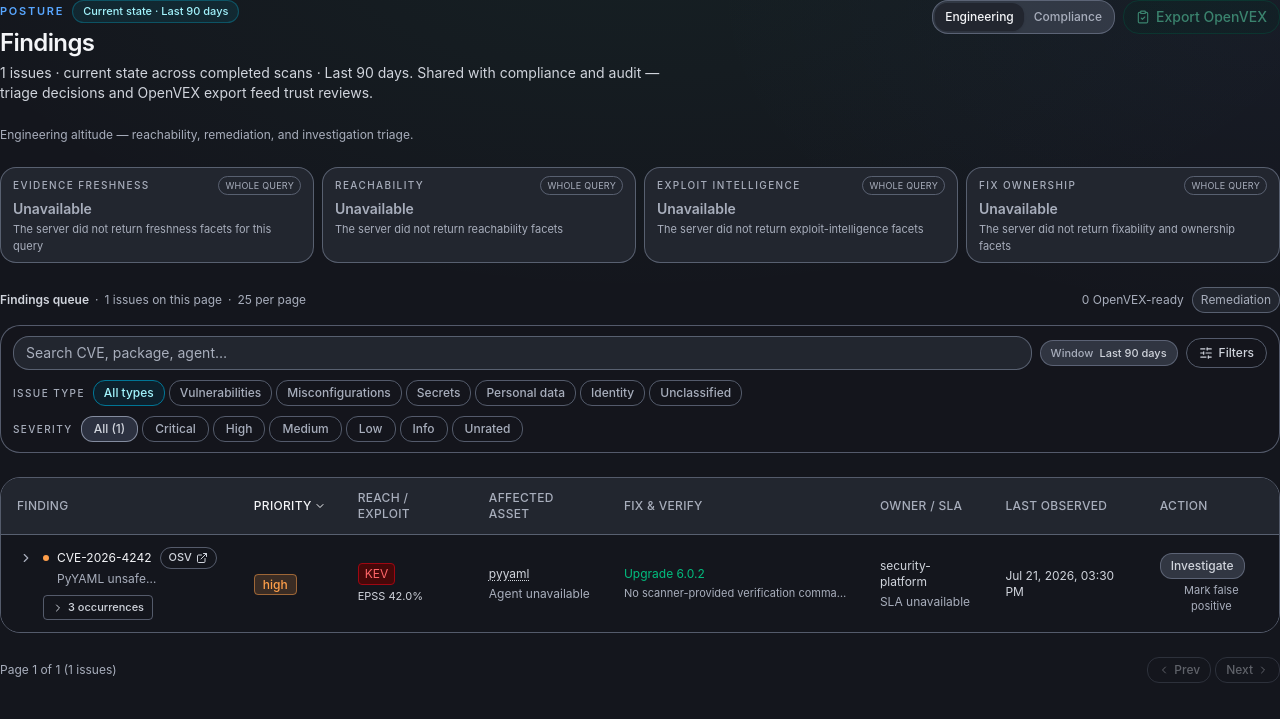
Scenario: FindingsPage › projects canonical vulnerability intelligence into the finding drawer without inventing missing facts
Expected: the button "CVE-2026-4242" is shown, x1=57 y1=550 x2=152 y2=566
Click the button named "Open details for CVE-2026-4242" at (26, 558), box x1=17 y1=549 x2=35 y2=567
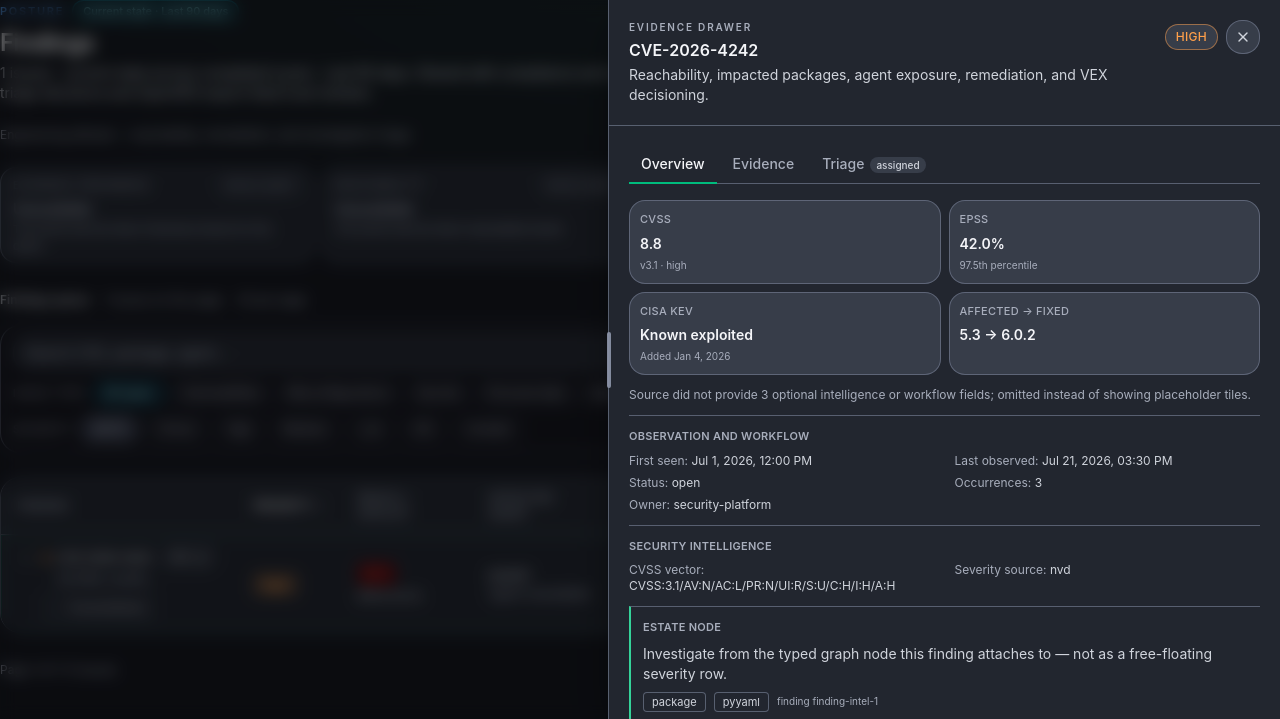
Expected: the text "v3.1 · high" is shown, x1=640 y1=258 x2=686 y2=270
Expected: the text "97.5th percentile" is shown, x1=960 y1=258 x2=1038 y2=270
Expected: the text "Known exploited" is shown, x1=640 y1=326 x2=753 y2=343
Click the tab "Evidence" at (763, 165), box x1=720 y1=146 x2=806 y2=184
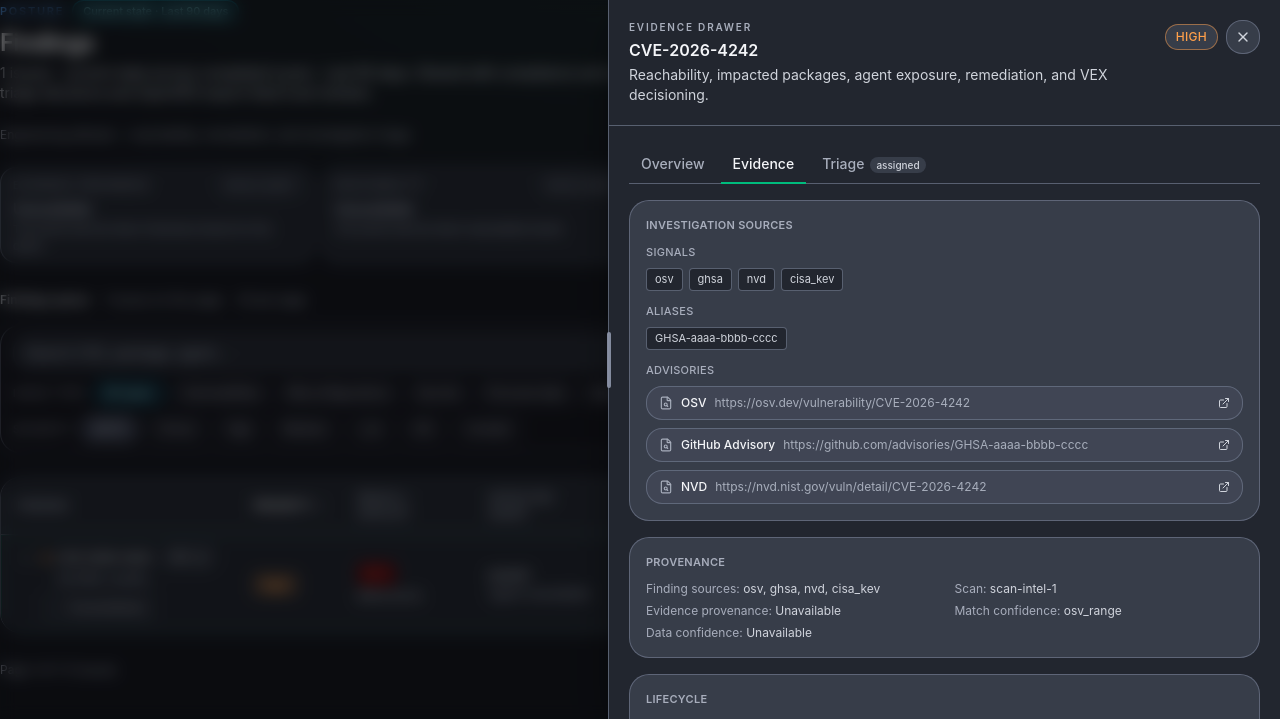
Expected: the text "osv_range" is shown, x1=1064 y1=602 x2=1122 y2=618
Expected: the text "scan-intel-1" is shown, x1=990 y1=580 x2=1057 y2=596
